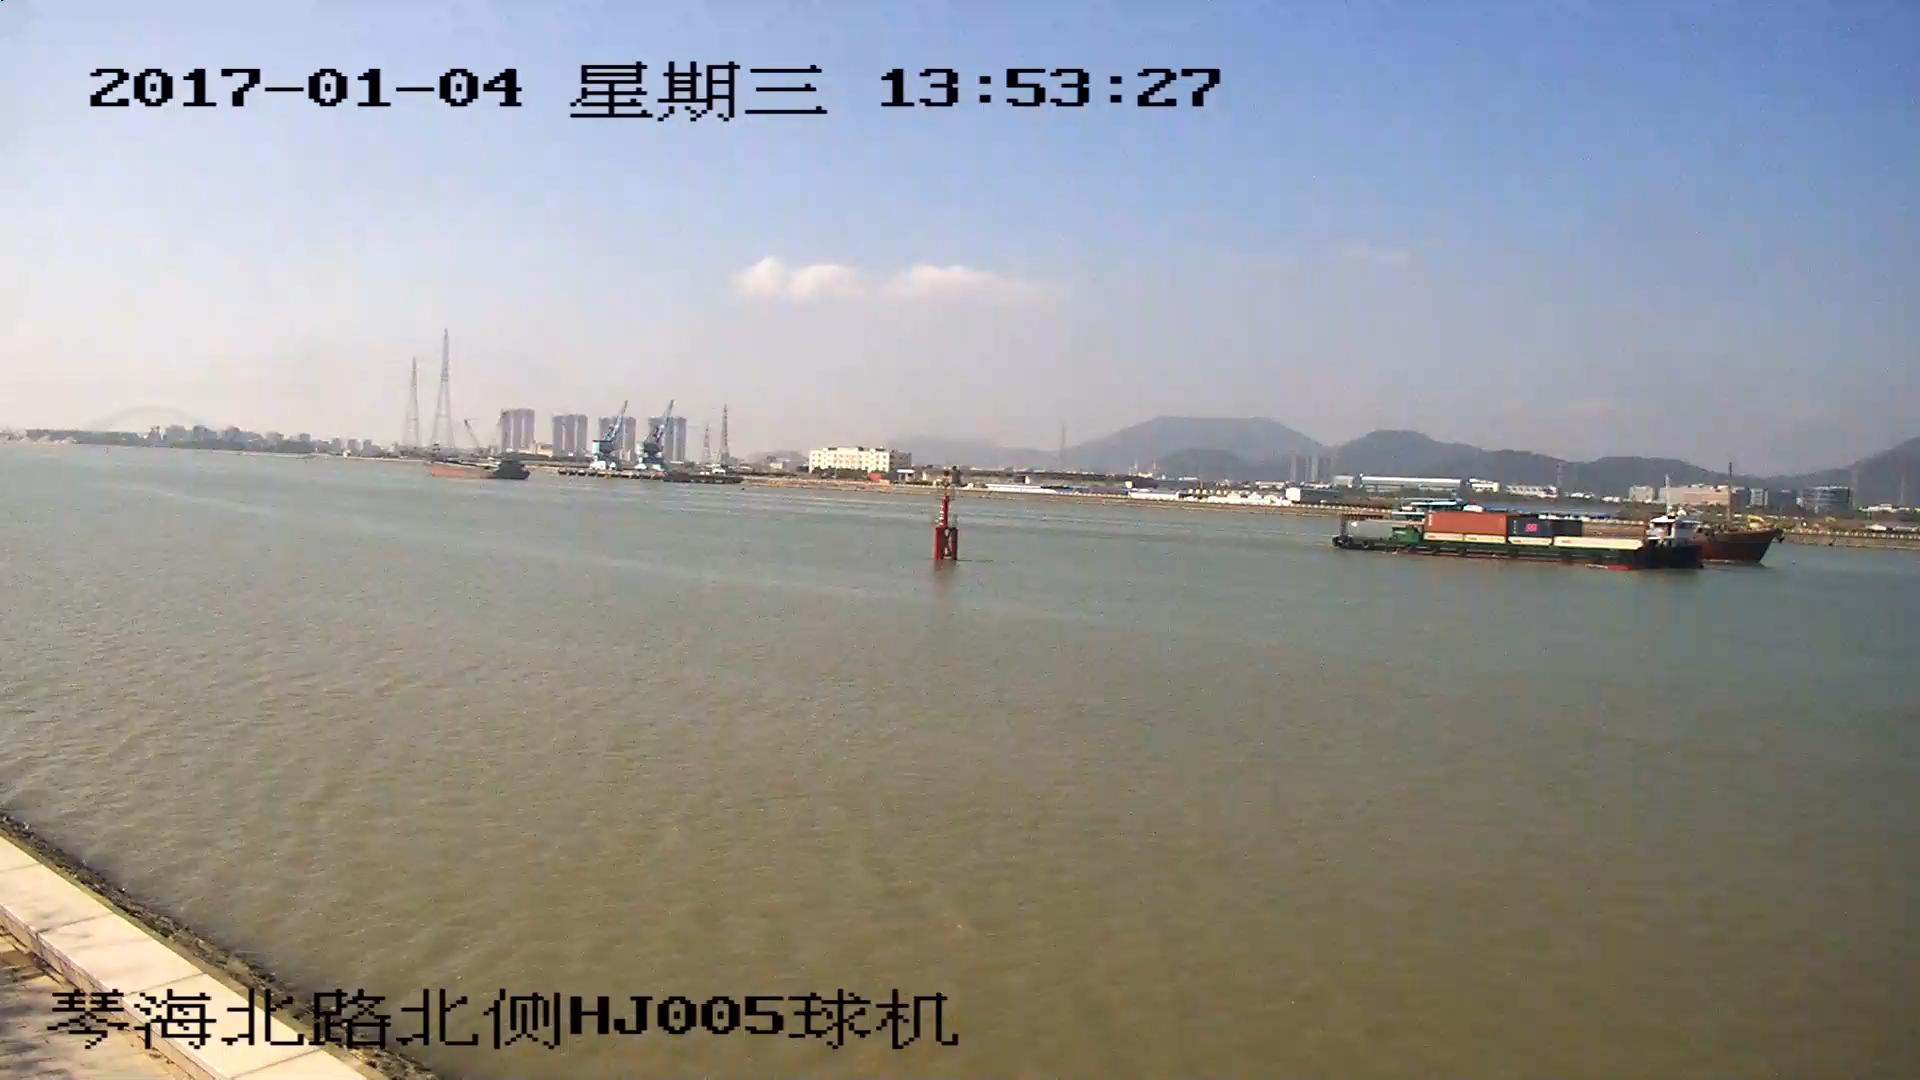container ship: (1345, 498, 1703, 570)
